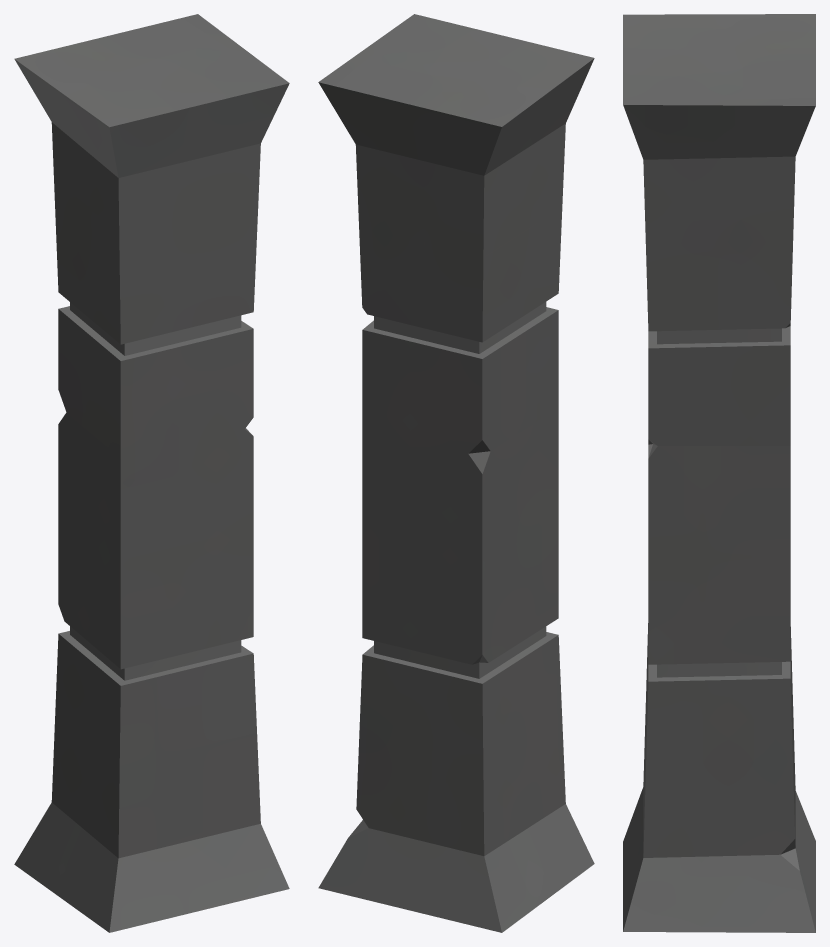
File: Pillar_2.fbx
3 views of the same model, side by side, from view 1: azimuth 30°, elevation 25°; view 2: azimuth 150°, elevation 25°; view 3: azimuth 270°, elevation 25° (orthographic). The views are drawn at different scales.
Parts seen in each view (by area): view 1: Pillar 2; view 2: Pillar 2; view 3: Pillar 2.
Boxes of the visible parts, box(x1,y1,x2,y2) form: Pillar 2: box(14, 14, 289, 932); Pillar 2: box(318, 14, 594, 932); Pillar 2: box(623, 14, 815, 932).
Size of the model in its own units: 59.59 by 250 by 52.76.
